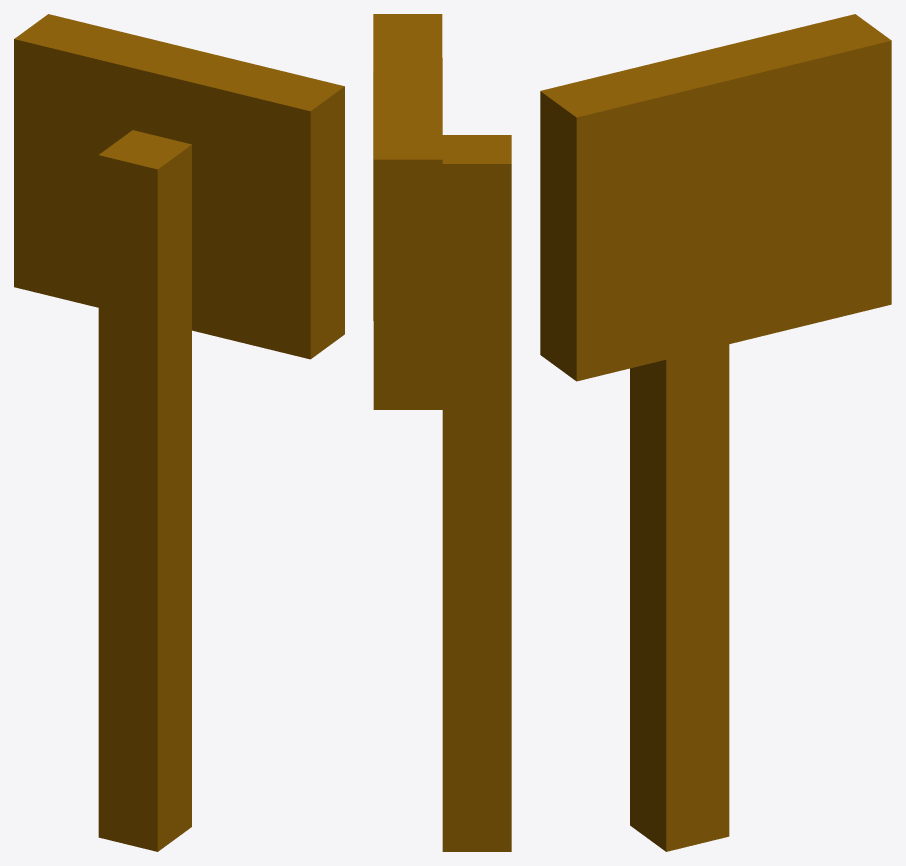
The model's file is sign.glb.
3 views of the same model, side by side, from view 1: azimuth 30°, elevation 25°; view 2: azimuth 150°, elevation 25°; view 3: azimuth 270°, elevation 25° (orthographic). The views are drawn at different scales.
Parts seen in each view (by area): view 1: room2_sign; view 2: room2_sign; view 3: room2_sign.
Boxes of the visible parts, x1,y1,x2,y2 form: room2_sign: (14, 14, 344, 851); room2_sign: (373, 14, 511, 851); room2_sign: (540, 14, 891, 851).
Size of the model in its own units: 0.4081 by 1.45 by 0.5854.
1 material, 1 textured.
